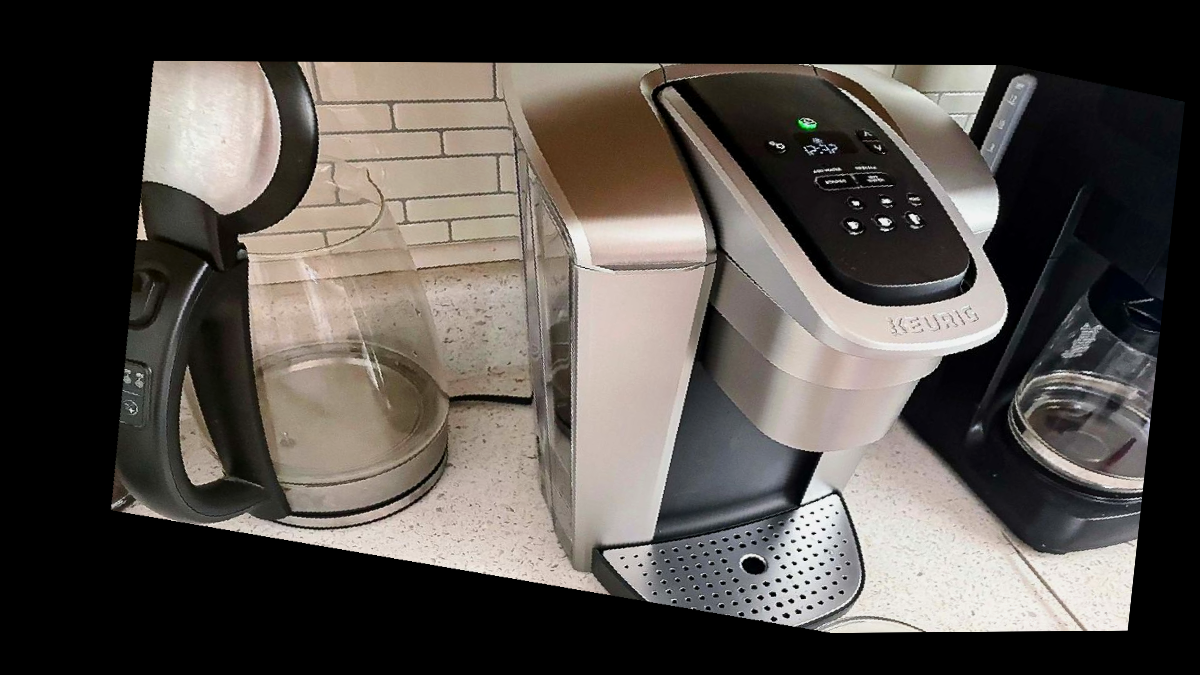10oz: (869, 210, 900, 238)
12oz: (899, 209, 931, 236)
4oz: (844, 194, 867, 213)
6oz: (875, 192, 899, 210)
8oz: (838, 213, 869, 241)
add_water: (807, 160, 848, 178)
coffee_handle: (886, 322, 1000, 369)
descale: (849, 158, 883, 174)
hot: (854, 170, 895, 191)
iced: (901, 187, 927, 209)
platform: (733, 544, 775, 583)
power: (795, 113, 821, 132)
strong: (816, 174, 855, 193)
water_handle: (577, 258, 714, 276)
